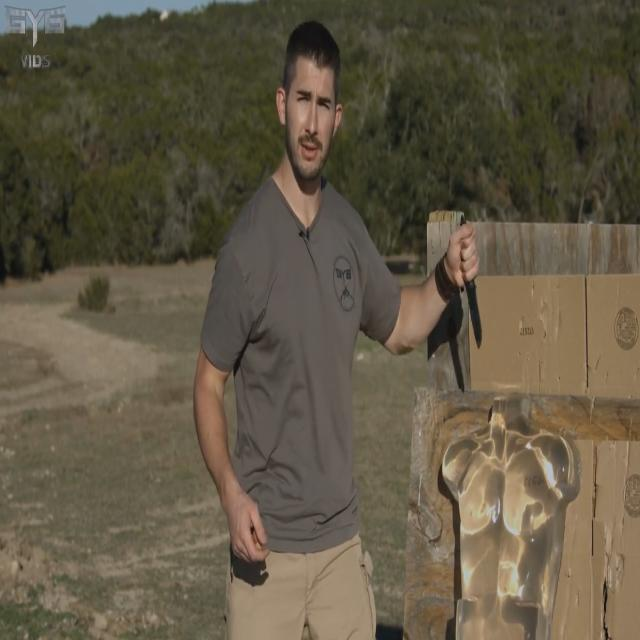knife: (468, 286, 487, 354)
